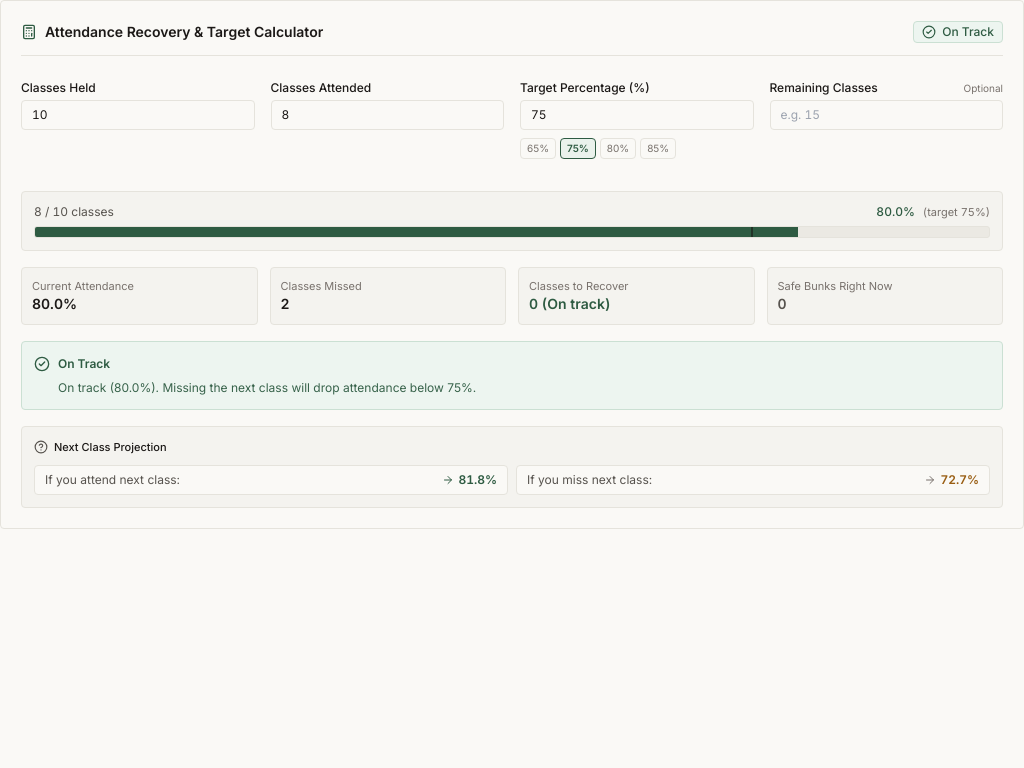
it: AttendanceCalculator Component › validates target percentage range [0, 100]
Replace the text in the number field labelled "Target Percentage (%)" with "110" at [637, 115], box [520, 100, 754, 130]
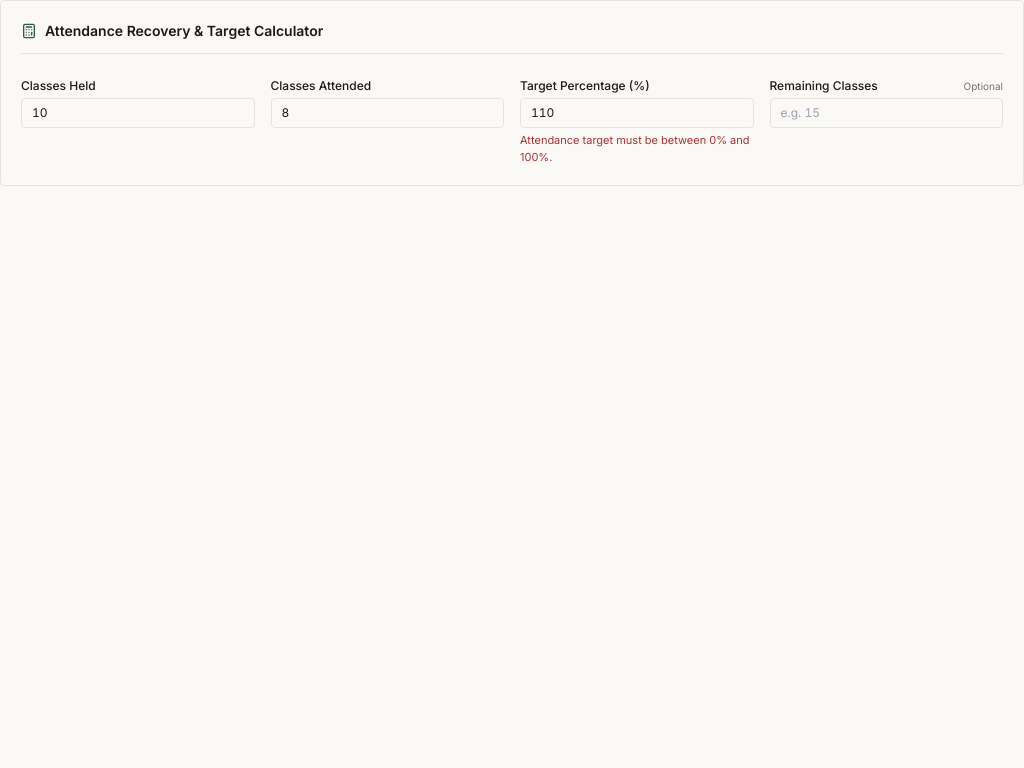
Expected: the message shows "target must be between 0% and 100%", [520, 133, 750, 164]
